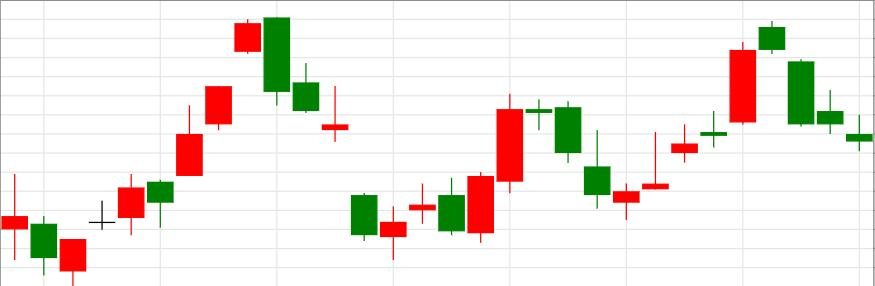bearish_engulfing_fall: (58, 16, 292, 285)
evening_star_fall: (379, 94, 583, 259)
